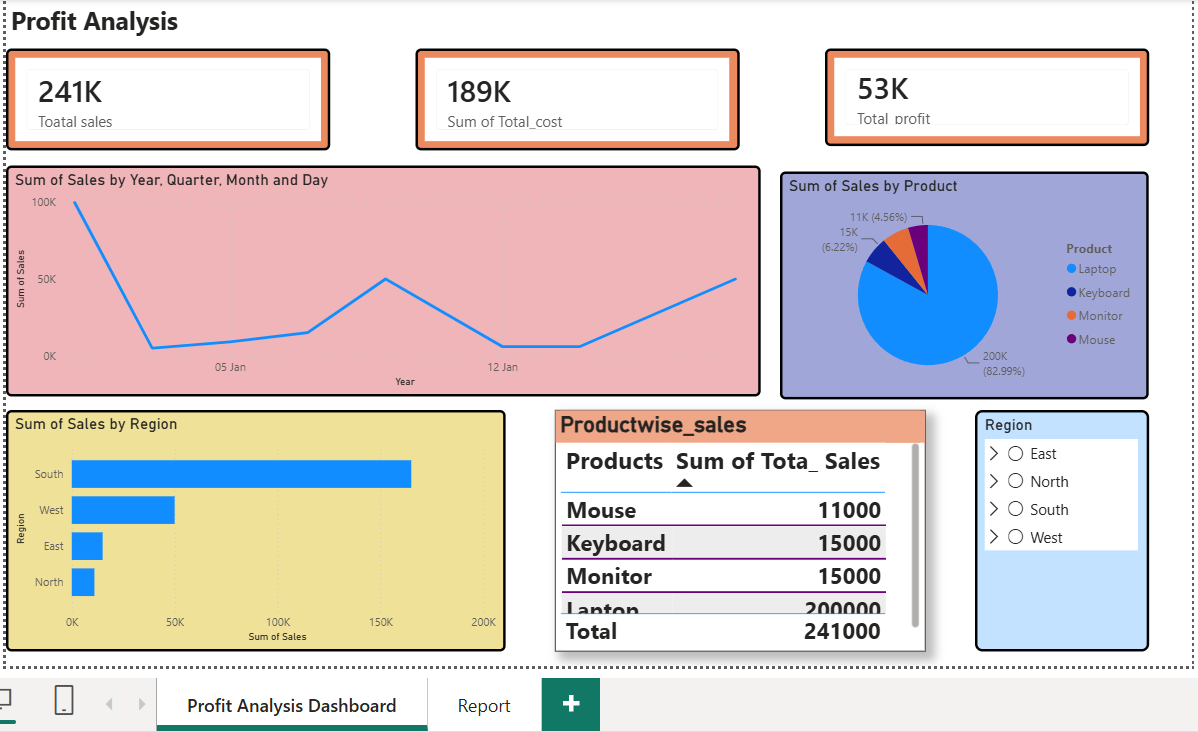

This screenshot's page, from the dashboard's own definition file:
{"tool":"powerbi","page":{"name":"Profit Analysis Dashboard","canvas":[1280,720],"ordinal":0},"visuals":[{"type":"cardVisual","fields":{"Data":["Orders.Total_profit"]},"box":[884.1,53.4,350,105.2],"z":0},{"type":"cardVisual","fields":{"Data":["Orders.Toatal sales"]},"box":[0,53.4,350,110.1],"z":1000},{"type":"cardVisual","fields":{"Data":["Sum(Orders.Cost)"]},"box":[442.2,53.4,349.8,110.1],"z":2000},{"type":"lineChart","fields":{"Y":["Sum(Orders.Sales)"],"Category":["Orders.Date.Variation.Date Hierarchy.Year","Orders.Date.Variation.Date Hierarchy.Quarter","Orders.Date.Variation.Date Hierarchy.Month","Orders.Date.Variation.Date Hierarchy.Day"]},"box":[0,178.9,814.5,249.4],"z":3000},{"type":"barChart","fields":{"Category":["Orders.Region"],"Y":["Sum(Orders.Sales)"]},"box":[0,443.7,539.2,260.7],"z":4000},{"type":"pieChart","fields":{"Category":["Orders.Product"],"Y":["Sum(Orders.Sales)"]},"box":[835.5,186.2,398.3,246.1],"z":5000},{"type":"listSlicer","fields":{"Values":["Orders.Region","Orders.Product","Orders.Customer_Name"]},"box":[1046,443.7,187.8,260.7],"z":6000},{"type":"textbox","box":[0,0,1280.8,48.6],"z":7000},{"type":"tableEx","title":"Productwise_sales","fields":{"Values":["Productwise_sales.Products","Sum(Productwise_sales.Tota_ Sales)"]},"box":[592.6,443.7,399.9,260.7],"z":8000}]}

Visuals, with their boxes in screenshot pixels (x1, y1, x2, y2):
cardVisual - Orders.Total_profit: [819, 49, 1142, 146]
cardVisual - Orders.Toatal sales: [3, 49, 326, 151]
cardVisual - Sum(Orders.Cost): [411, 49, 734, 151]
lineChart - Sum(Orders.Sales) x Orders.Date.Variation.Date Hierarchy.Year: [3, 165, 755, 395]
barChart - Orders.Region x Sum(Orders.Sales): [3, 410, 501, 650]
pieChart - Orders.Product x Sum(Orders.Sales): [774, 172, 1142, 399]
listSlicer - Orders.Region x Orders.Product: [969, 410, 1142, 650]
textbox: [3, 0, 1185, 45]
"Productwise_sales" tableEx: [550, 410, 919, 650]
